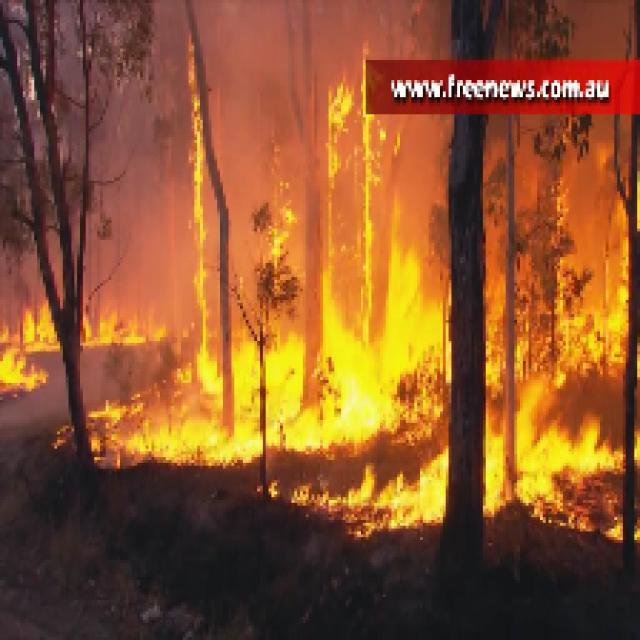Fire: (280, 260, 440, 443), (103, 357, 263, 463), (554, 200, 629, 357), (514, 386, 617, 498), (317, 115, 392, 252), (340, 457, 446, 534), (186, 28, 211, 354)
Smoke: (83, 17, 180, 292), (217, 5, 309, 132)
